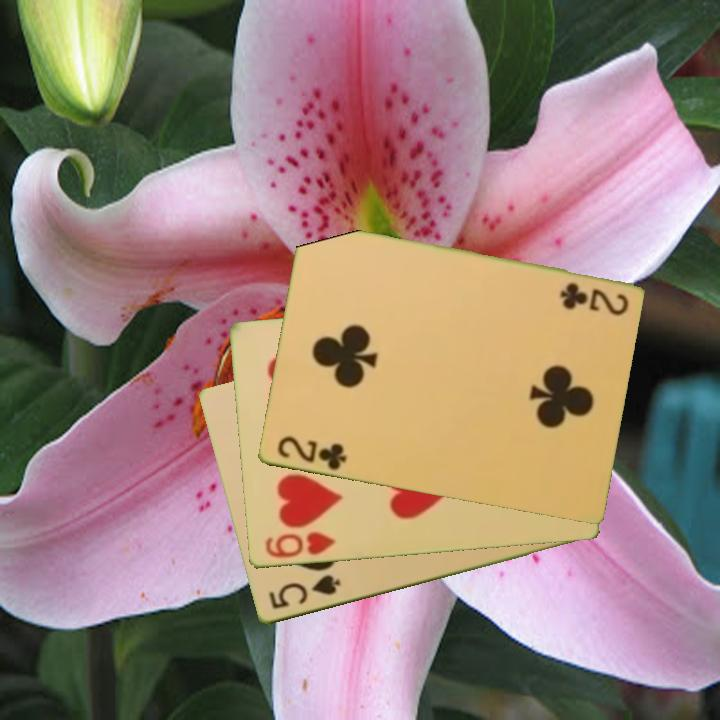2c: (273, 433, 350, 474), (556, 279, 631, 317)
5s: (265, 571, 343, 613)
6h: (261, 528, 338, 562)
